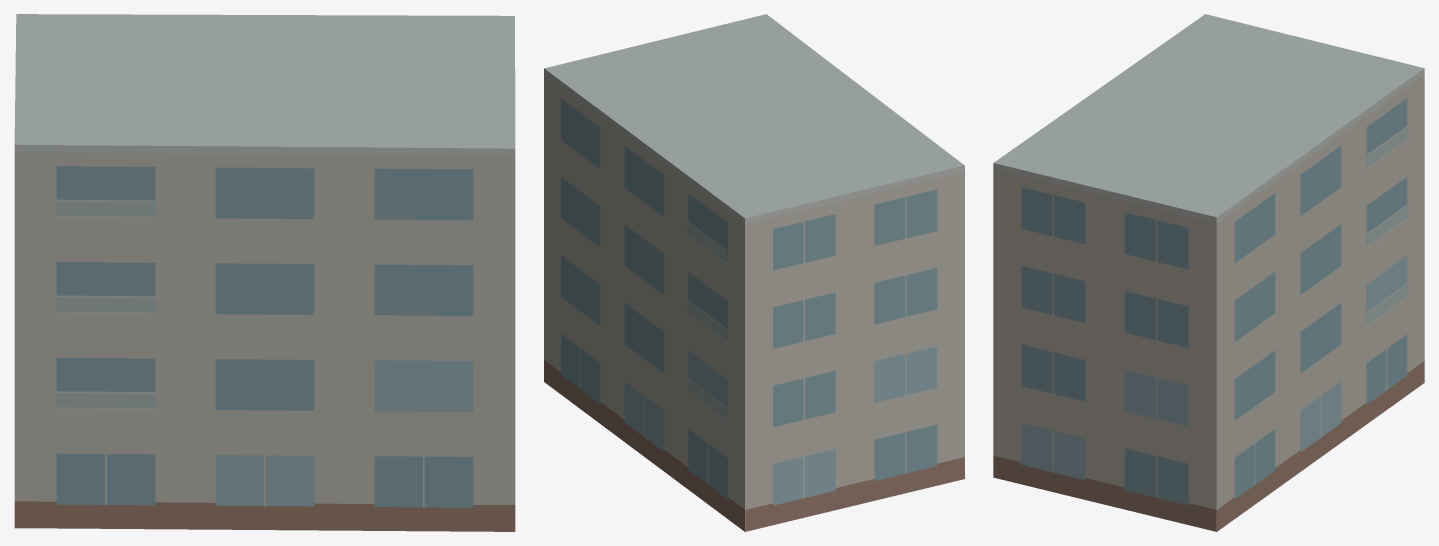
Rendered from survey-upis-32674583.glb.
The picture shows the model from 3 angles, left to right: view 1: azimuth 30°, elevation 25°; view 2: azimuth 150°, elevation 25°; view 3: azimuth 270°, elevation 25°; orthographic projection. The views are drawn at different scales.
Parts seen in each view (by area): view 1: survey-upis-32674583.tmp; view 2: survey-upis-32674583.tmp; view 3: survey-upis-32674583.tmp.
Part boxes in pixels (box(x1,y1,x2,y2)): survey-upis-32674583.tmp: box(14, 14, 515, 531); survey-upis-32674583.tmp: box(544, 14, 964, 531); survey-upis-32674583.tmp: box(993, 14, 1424, 531).
Size of the model in its own units: 17.19 by 12.4 by 15.41.
